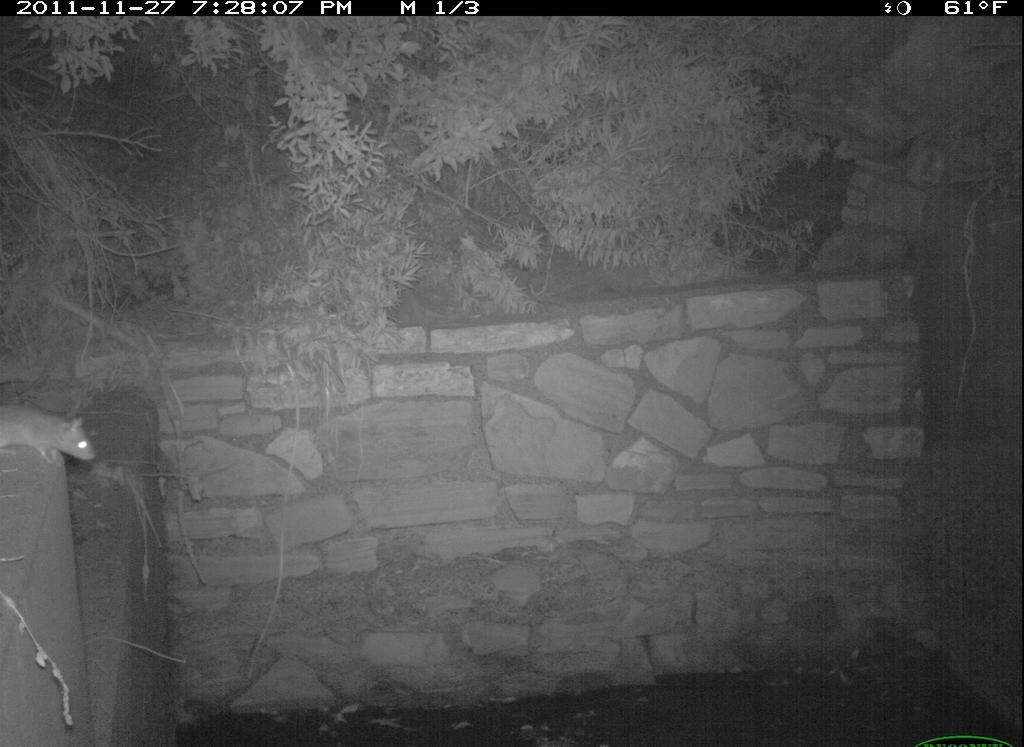rodent: (1, 382, 100, 482)
